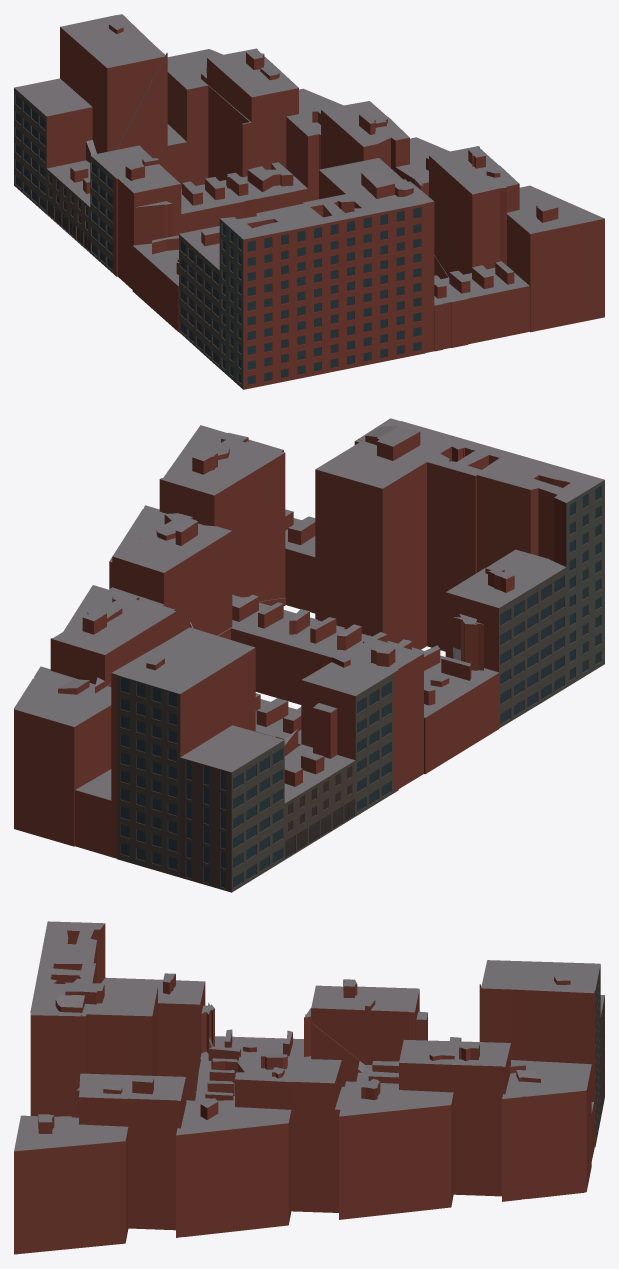
File: recipe-large-westerdok-748-186003.glb
3 renders of one model, top to bottom at view 1: azimuth 30°, elevation 25°; view 2: azimuth 150°, elevation 25°; view 3: azimuth 270°, elevation 25°, orthographic. The views are drawn at different scales.
Visible parts, largest first — view 1: westerdok-748-186003; view 2: westerdok-748-186003; view 3: westerdok-748-186003.
Part boxes in pixels (x1,y1,x2,y2): westerdok-748-186003: (14,14,604,389); westerdok-748-186003: (14,418,604,892); westerdok-748-186003: (14,921,604,1254).
Size of the model in its own units: 84.96 by 37.99 by 120.
